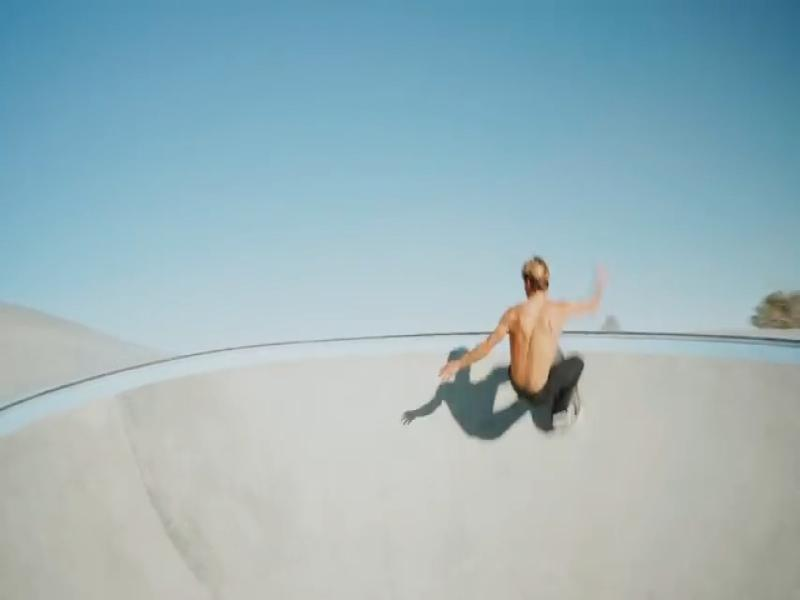person: (439, 259, 608, 416)
